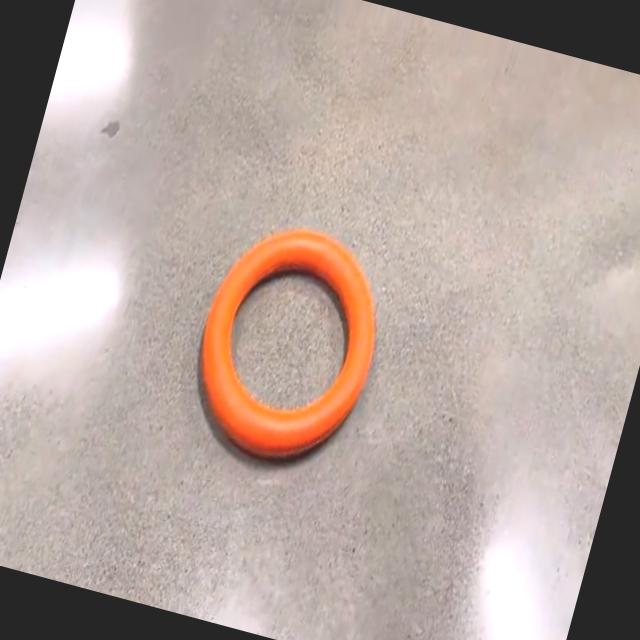note: (200, 232, 375, 456)
